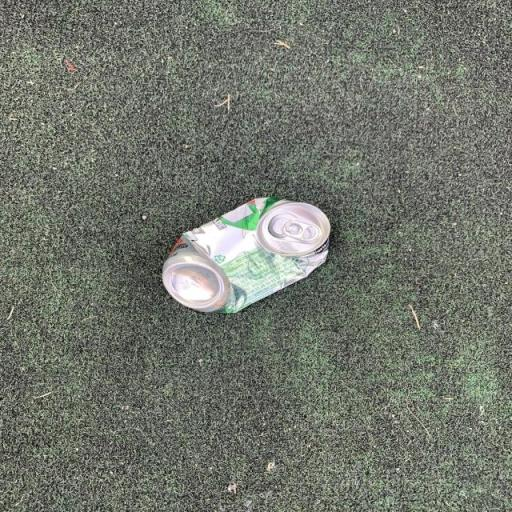metal: (120, 167, 382, 347)
